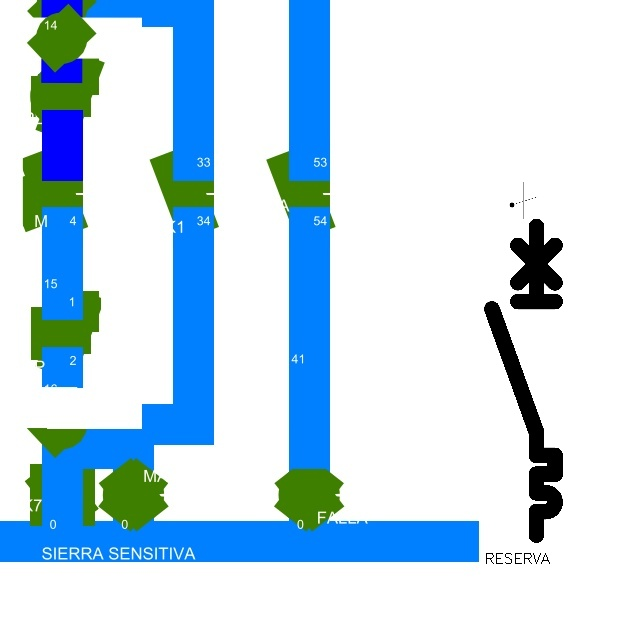interruptor_termomagnetico: (484, 218, 563, 542)
